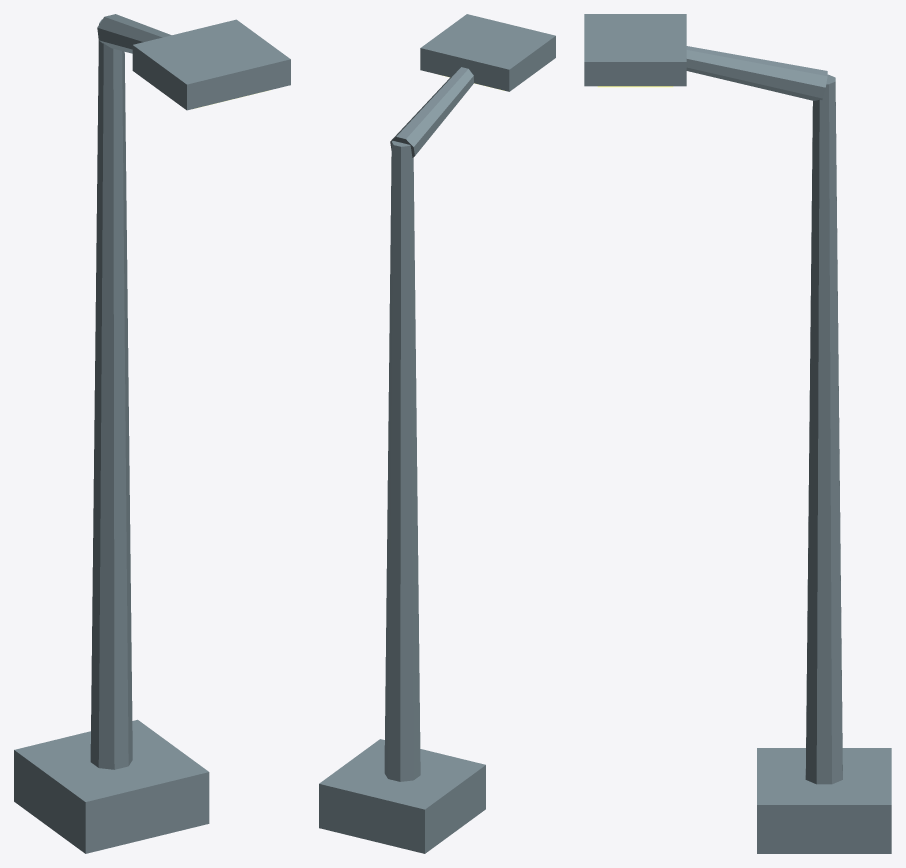
File: Street_Lamp_3p2m.glb
3 renders of one model, left to right at view 1: azimuth 30°, elevation 25°; view 2: azimuth 150°, elevation 25°; view 3: azimuth 270°, elevation 25°, orthographic. The views are drawn at different scales.
Parts seen in each view (by area): view 1: Street_Lamp_3p2m; view 2: Street_Lamp_3p2m; view 3: Street_Lamp_3p2m.
Part boxes in pixels (x1,y1,x2,y2): Street_Lamp_3p2m: [14, 14, 290, 853]; Street_Lamp_3p2m: [319, 14, 555, 853]; Street_Lamp_3p2m: [584, 14, 891, 853].
Bounding box in the file's own units: 0.5 × 3.22 × 1.14.
